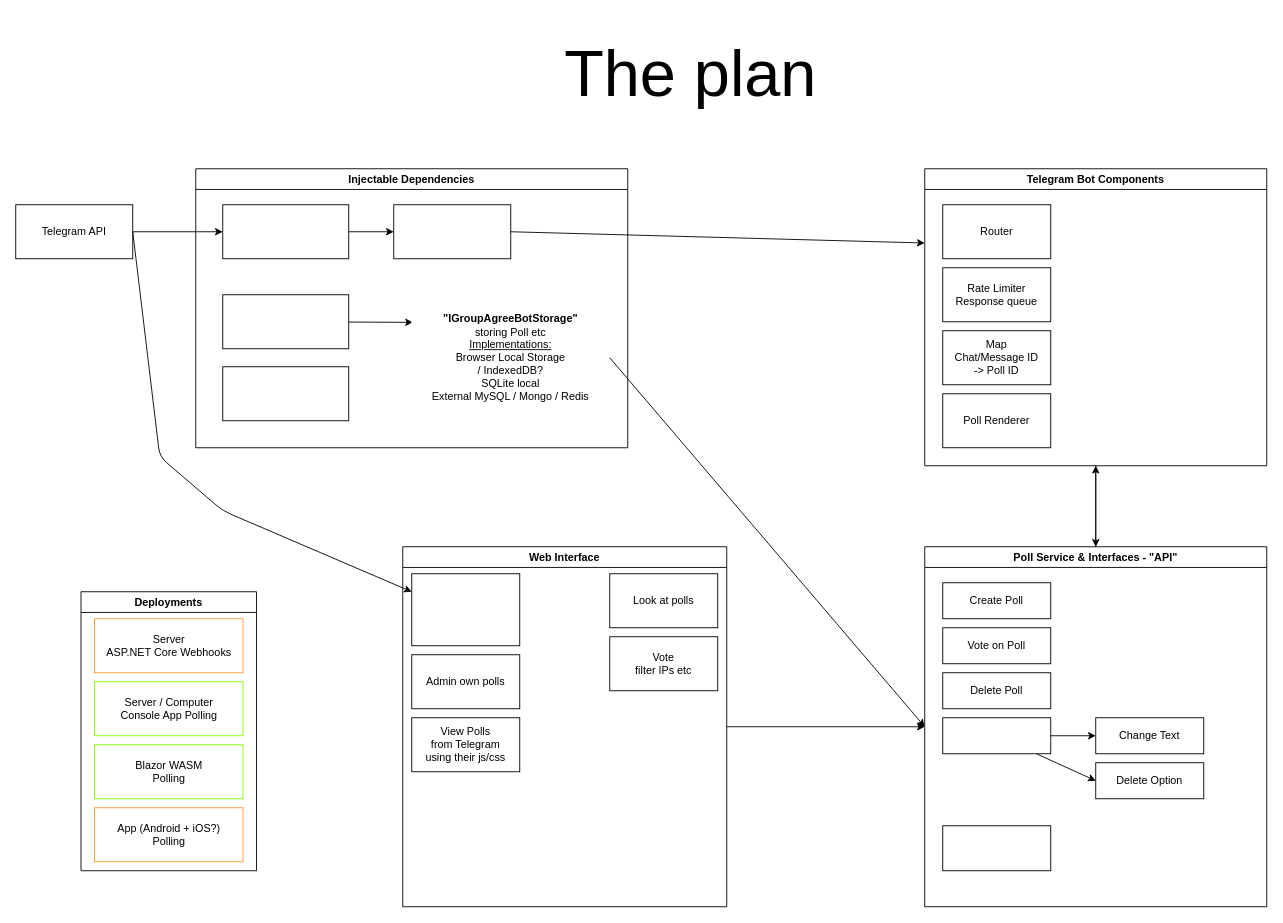
Image size: 1283x923. Some labels were removed from this diagram. The centre of each missing label's shape, as x and y in pixels:
"Subscribeable" Update Poll: the point at 996,848
Data Storage Provider (DB / Local Storage): the point at 285,321
DateTime: the point at 285,393
Edit Poll: the point at 996,735
HttpClient (Factory) DateTime ...: the point at 452,231
SSO Telegram GitHub? Google?: the point at 465,609
Telegram API Updates & Requests: the point at 285,231
